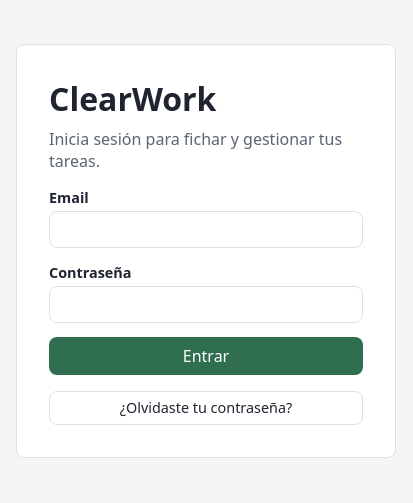
it: Login › muestra el mensaje de la API si el login falla con ApiError
In the field labelled "Email": (206, 230) [49,211,363,248], type "ana@test.dev"
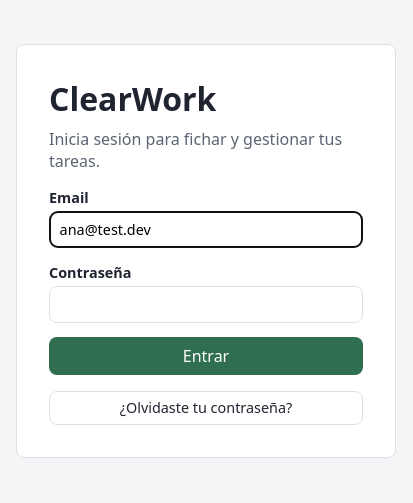
In the password field labelled "Contraseña": (206, 304) [49,286,363,323], type "mala"
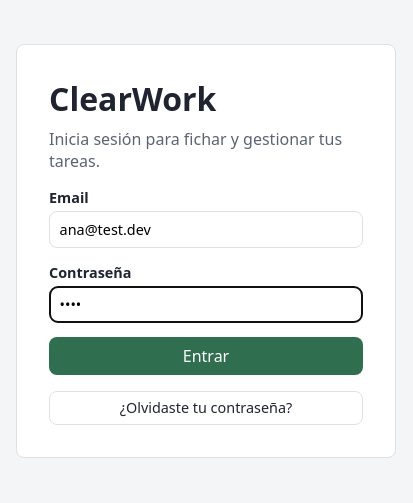
Click the button "Entrar": (206, 356) [49,337,363,375]
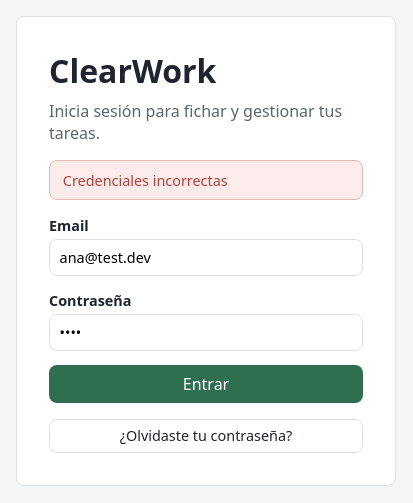
Now the text "Credenciales incorrectas" is shown, box [49,160,363,200]
